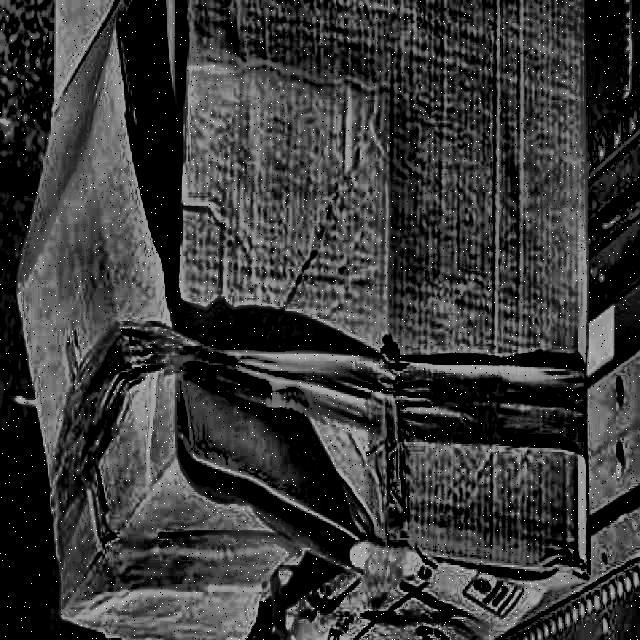box: (6, 1, 597, 640)
hole: (116, 0, 194, 323)
